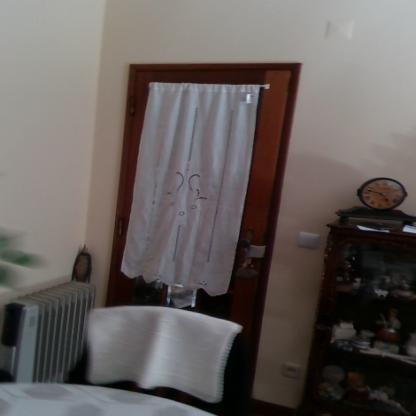door: (130, 68, 286, 407)
hinged: (116, 218, 125, 235), (130, 96, 134, 116)
knob: (238, 237, 250, 251)
